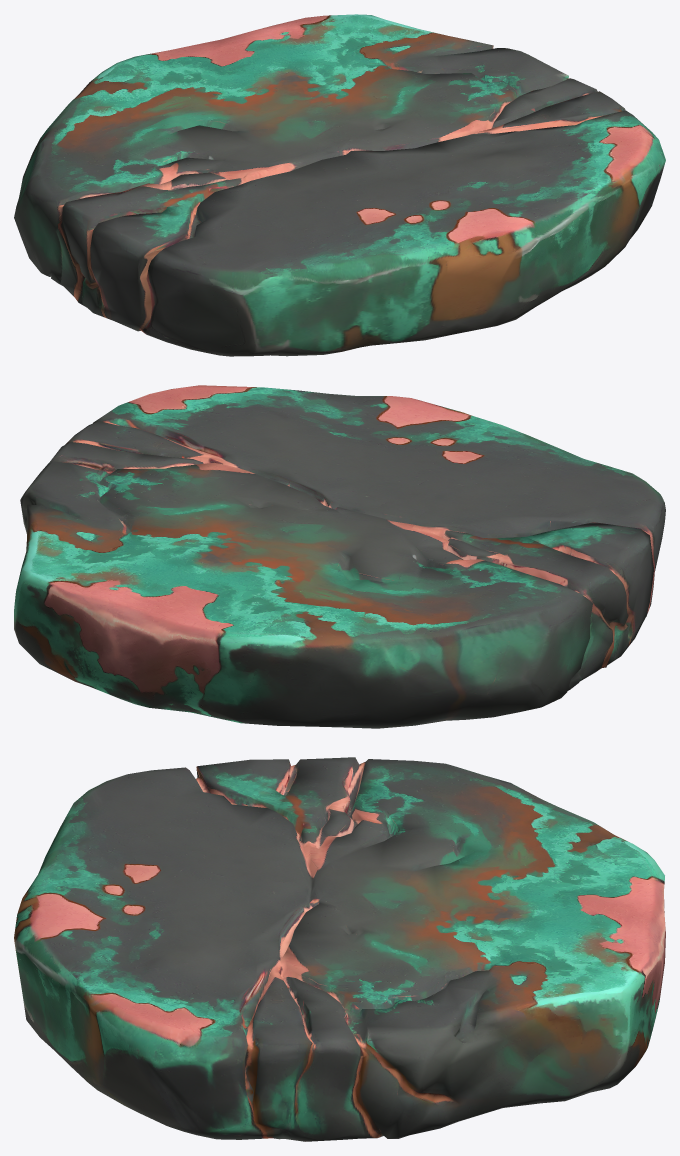
3 views of the same model, one above another, from view 1: azimuth 30°, elevation 25°; view 2: azimuth 150°, elevation 25°; view 3: azimuth 270°, elevation 25° (orthographic). The views are drawn at different scales.
Parts seen in each view (by area): view 1: Mesh_0; view 2: Mesh_0; view 3: Mesh_0.
Boxes of the visible parts, left/top/right/bottom form: Mesh_0: left=14, top=14, right=665, bottom=356; Mesh_0: left=14, top=385, right=665, bottom=728; Mesh_0: left=14, top=757, right=665, bottom=1141.
Bounding box in the file's own units: 1.91 × 0.3514 × 1.78.
Materials: 1 (1 with a texture image).
